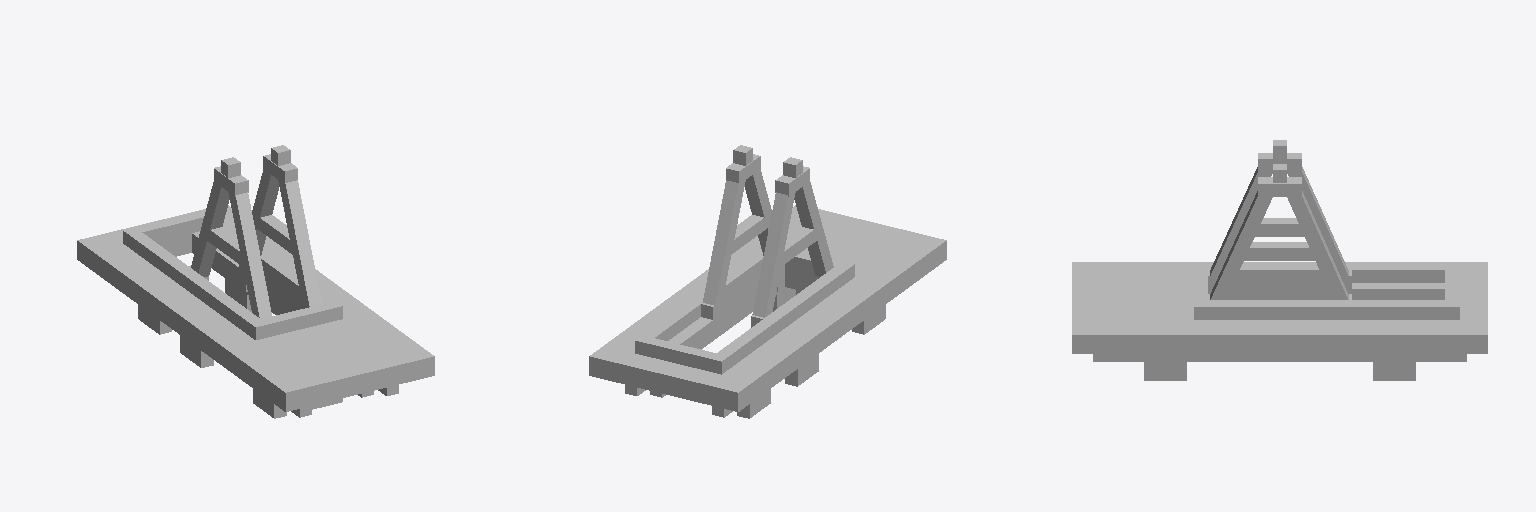
File: frame.obj
3 renders of one model, left to right at view 1: azimuth 30°, elevation 25°; view 2: azimuth 150°, elevation 25°; view 3: azimuth 270°, elevation 25°, orthographic.
Visible parts, largest first — view 1: cube_20, cube_10, cube_2, cube_0, cube_23, cube_4, cube_21, cube_3, cube_11, cube_25, cube_5, cube_8 (+8 smaller); view 2: cube_20, cube_21, cube_10, cube_3, cube_1, cube_23, cube_4, cube_22, cube_2, cube_11, cube_25, cube_24 (+9 smaller); view 3: cube_20, cube_11, cube_22, cube_5, cube_21, cube_14, cube_24, cube_0, cube_1, cube_25, cube_10, cube_23 (+9 smaller).
Boxes of the visible parts, x1,y1,x2,y2 form: cube_20: [217, 306, 434, 411]; cube_10: [145, 283, 246, 361]; cube_2: [228, 192, 271, 317]; cube_0: [278, 180, 321, 305]; cube_23: [99, 249, 175, 308]; cube_4: [177, 267, 267, 339]; cube_21: [77, 205, 233, 274]; cube_3: [191, 182, 229, 276]; cube_11: [264, 255, 365, 311]; cube_25: [123, 227, 188, 282]; cube_5: [261, 248, 342, 321]; cube_8: [261, 304, 329, 336]; cube_20: [732, 205, 946, 308]; cube_21: [589, 341, 759, 411]; cube_10: [777, 283, 878, 361]; cube_3: [752, 192, 795, 317]; cube_1: [703, 180, 745, 306]; cube_23: [729, 335, 806, 395]; cube_4: [764, 261, 854, 334]; cube_22: [611, 306, 712, 348]; cube_2: [794, 182, 833, 276]; cube_11: [658, 255, 759, 321]; cube_25: [709, 319, 775, 374]; cube_24: [635, 301, 700, 355]; cube_20: [1072, 262, 1207, 353]; cube_11: [1208, 320, 1351, 353]; cube_22: [1352, 320, 1444, 353]; cube_5: [1194, 300, 1351, 319]; cube_21: [1445, 262, 1487, 353]; cube_14: [1093, 354, 1466, 361]; cube_24: [1352, 300, 1459, 319]; cube_0: [1210, 191, 1272, 299]; cube_1: [1287, 191, 1348, 299]; cube_25: [1352, 264, 1459, 282]; cube_10: [1208, 262, 1351, 299]; cube_23: [1352, 262, 1444, 299].
Bounding box in the file's own units: 1.5 × 1.94 × 3.62.